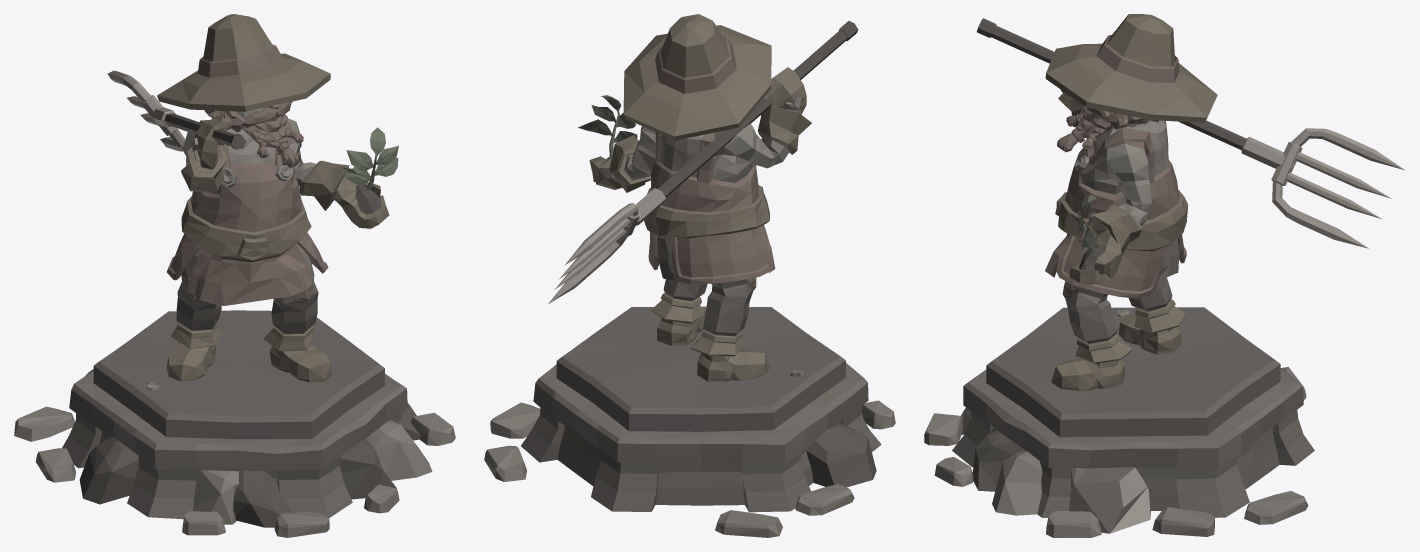
File: tempStoneHero.fbx
3 views of the same model, side by side, from view 1: azimuth 30°, elevation 25°; view 2: azimuth 150°, elevation 25°; view 3: azimuth 270°, elevation 25° (orthographic).
Visible parts, largest first — view 1: tempStoneHero; view 2: tempStoneHero; view 3: tempStoneHero.
Boxes of the visible parts, x1,y1,x2,y2 form: tempStoneHero: [14, 14, 455, 537]; tempStoneHero: [484, 14, 895, 537]; tempStoneHero: [924, 14, 1404, 537].
Bounding box in the file's own units: 2.61 × 3.11 × 3.09.
